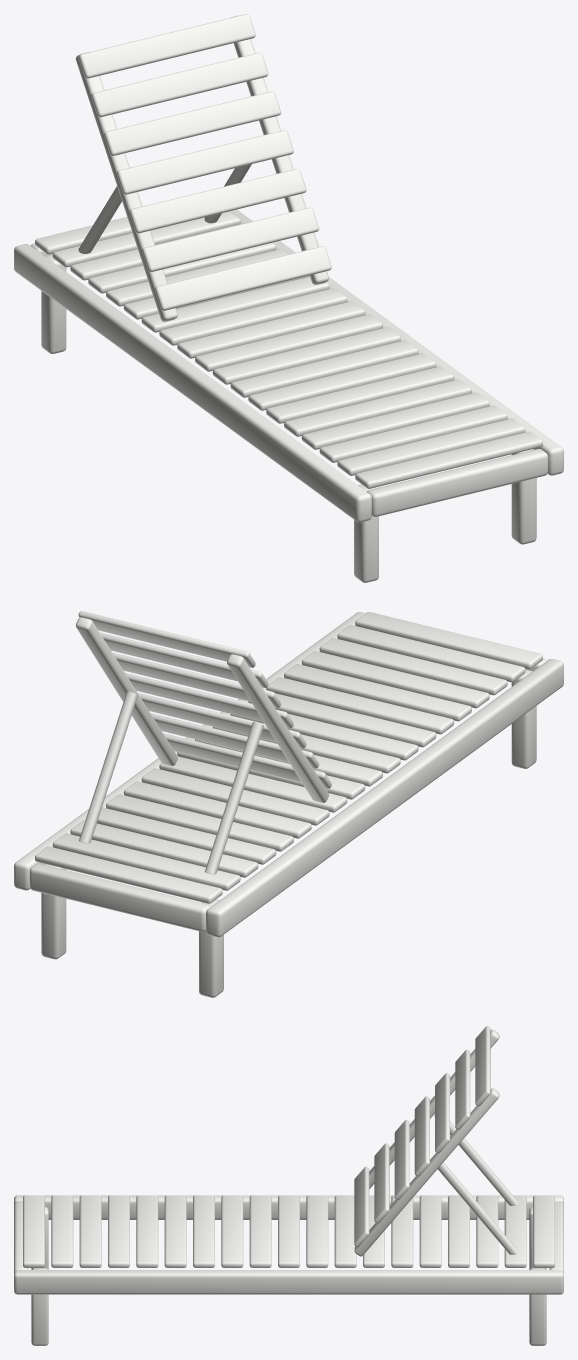
Rendered from espreguicadeira_reclinavel_branca.glb.
3 views of the same model, one above another, from view 1: azimuth 30°, elevation 25°; view 2: azimuth 150°, elevation 25°; view 3: azimuth 270°, elevation 25° (orthographic). The views are drawn at different scales.
Parts seen in each view (by area): view 1: espreguicadeira_reclinavel_branca; view 2: espreguicadeira_reclinavel_branca; view 3: espreguicadeira_reclinavel_branca.
Boxes of the visible parts, bbox=[...] form: espreguicadeira_reclinavel_branca: bbox=[14, 14, 563, 582]; espreguicadeira_reclinavel_branca: bbox=[14, 611, 563, 997]; espreguicadeira_reclinavel_branca: bbox=[14, 1026, 563, 1345].
Bounding box in the file's own units: 0.66 × 0.9713 × 1.9.
Materials: 1 (1 with a texture image).
